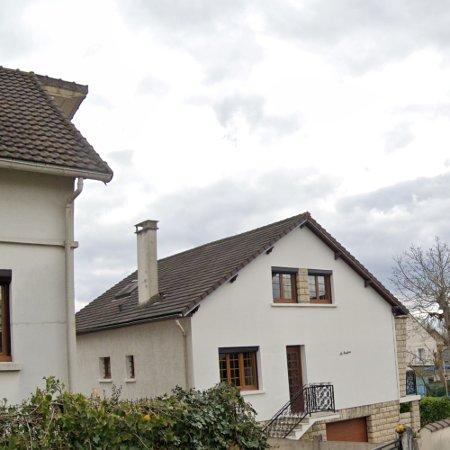chimneys: (135, 220, 159, 306)
